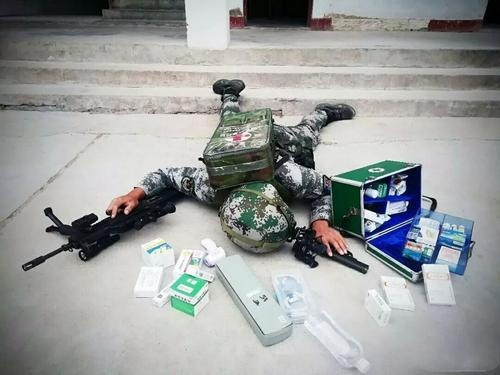falling: (100, 72, 389, 274)
